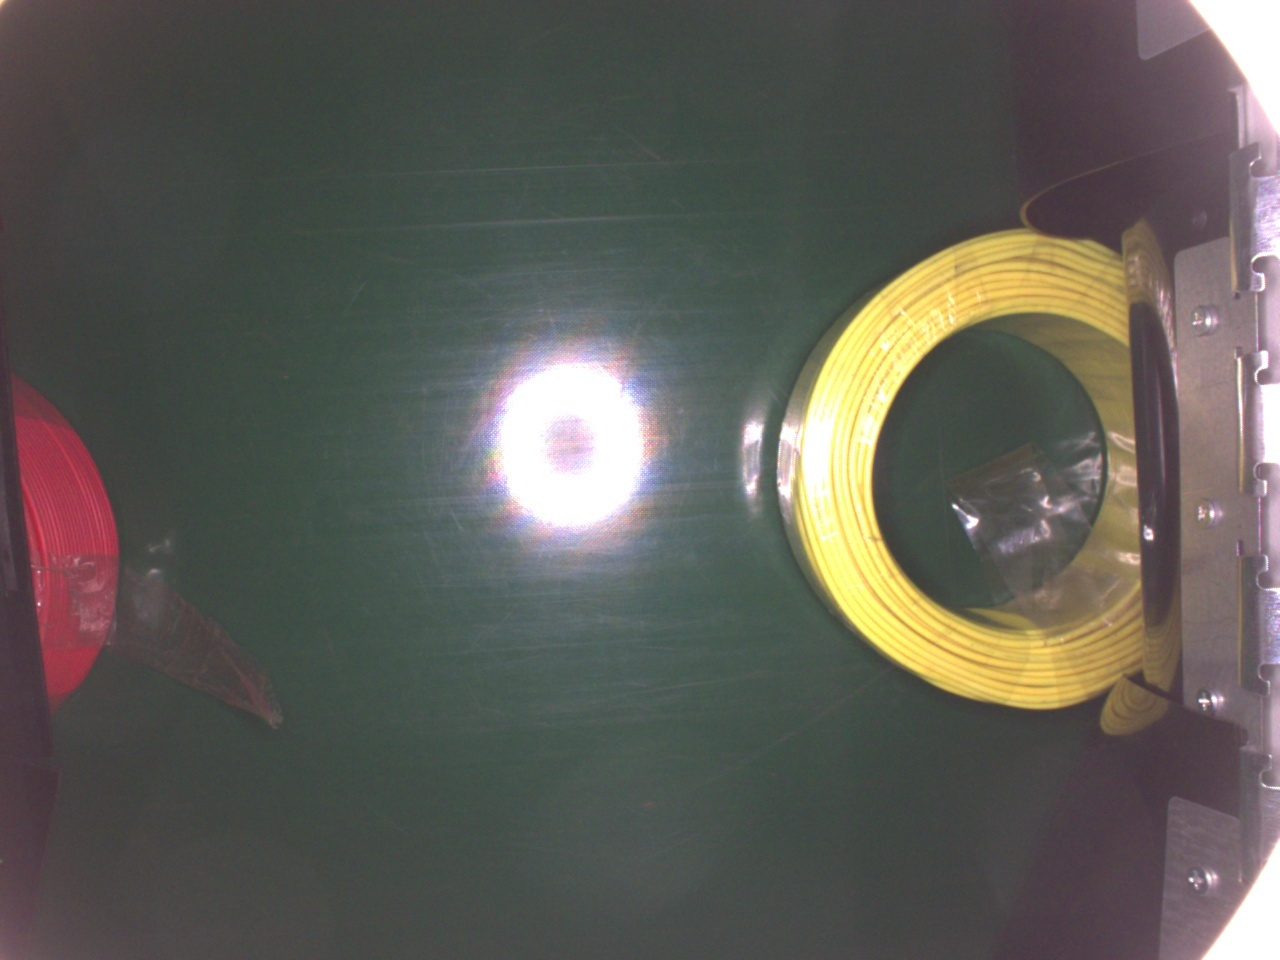yellow: (774, 226, 1140, 709)
